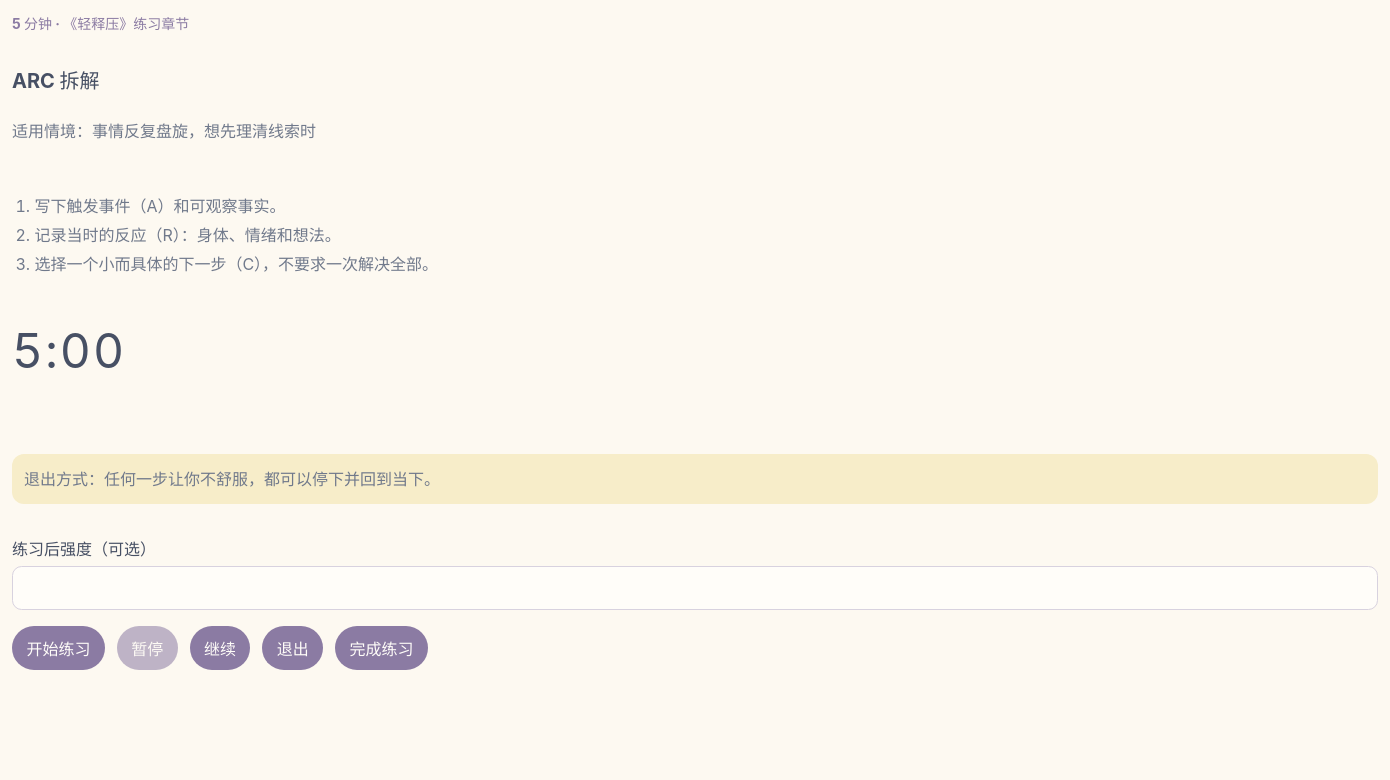
Test: ExerciseRunner › rejects a non-integer post-exercise intensity
This screenshot has width=1390, height=780.
Type "4.5" into the number field labelled "练习后强度" at (695, 588), box [12,566,1378,610]
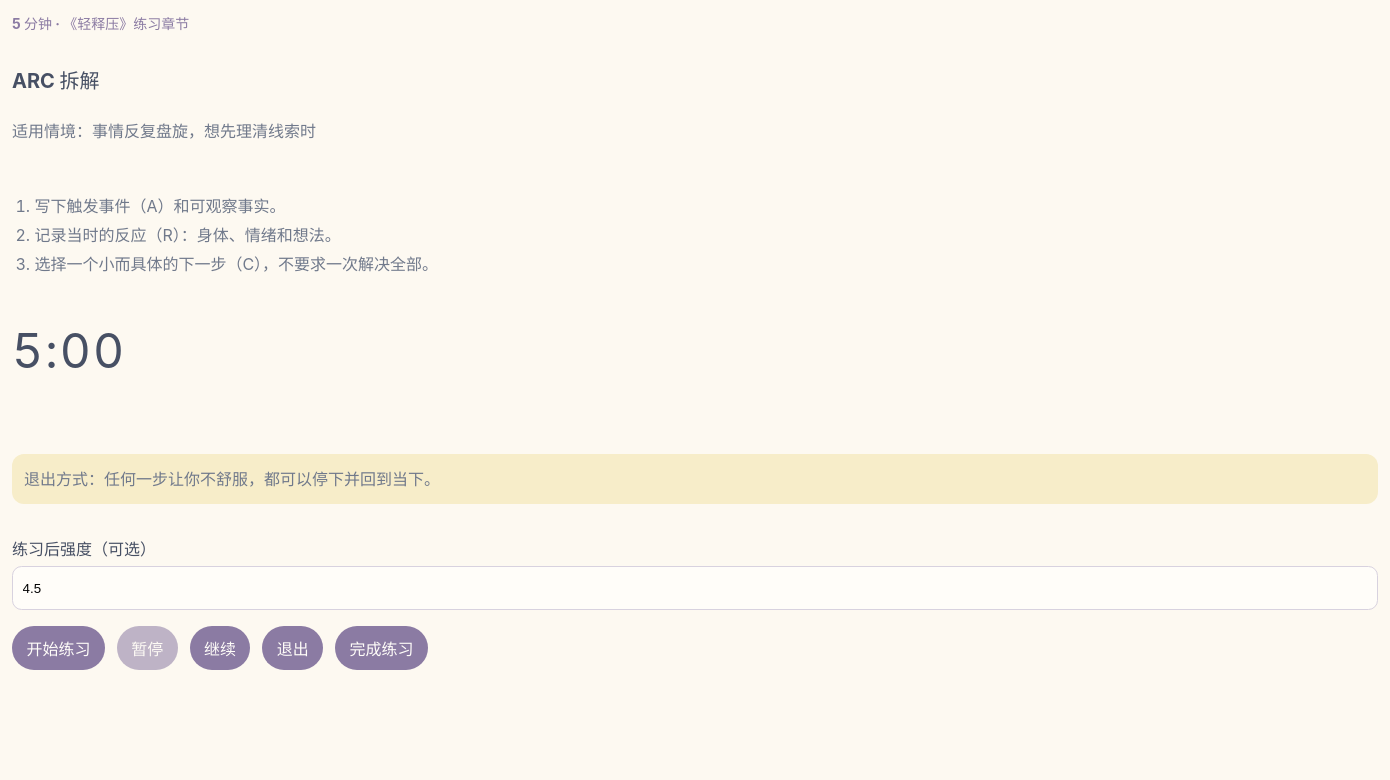
Click the button "完成练习" at (382, 648), box [335,626,428,670]
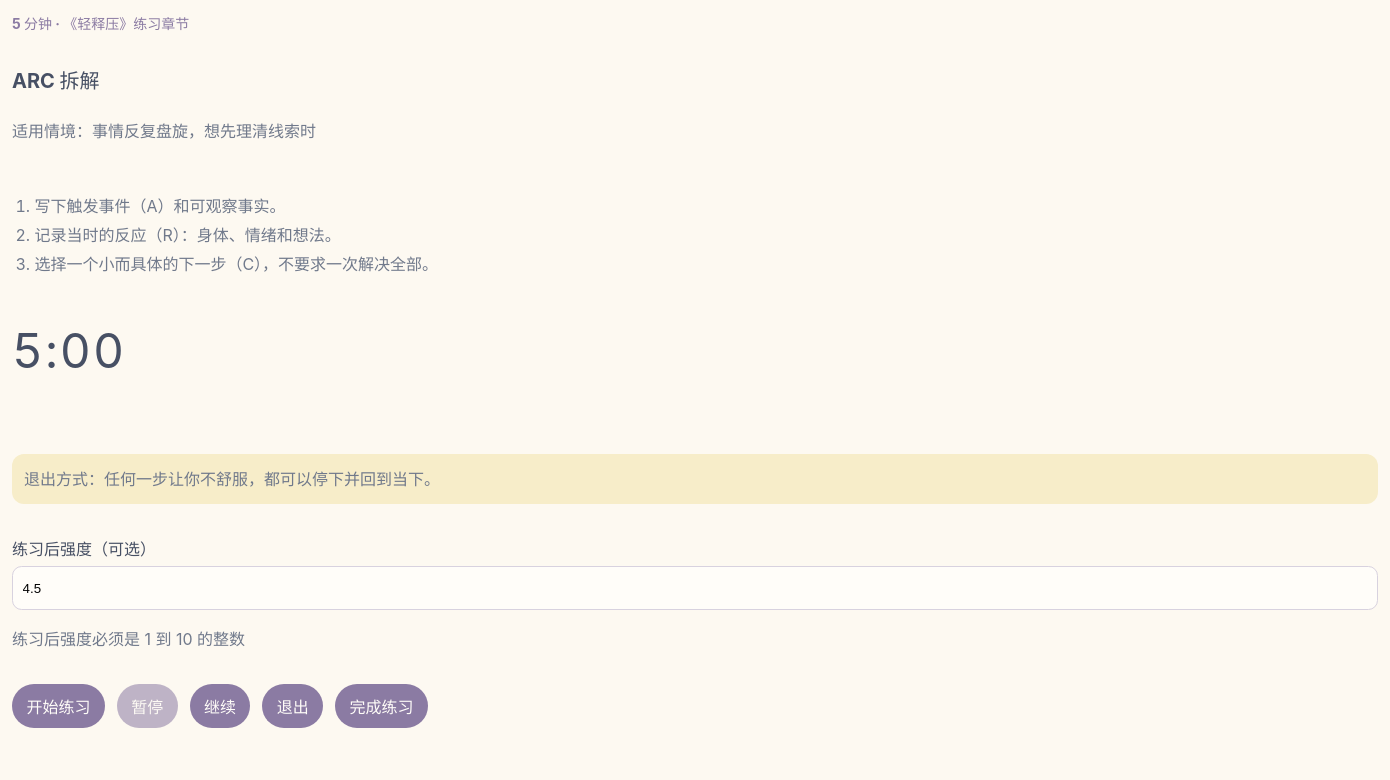
Now the message shows "1 到 10 的整数", box [12,629,245,649]
